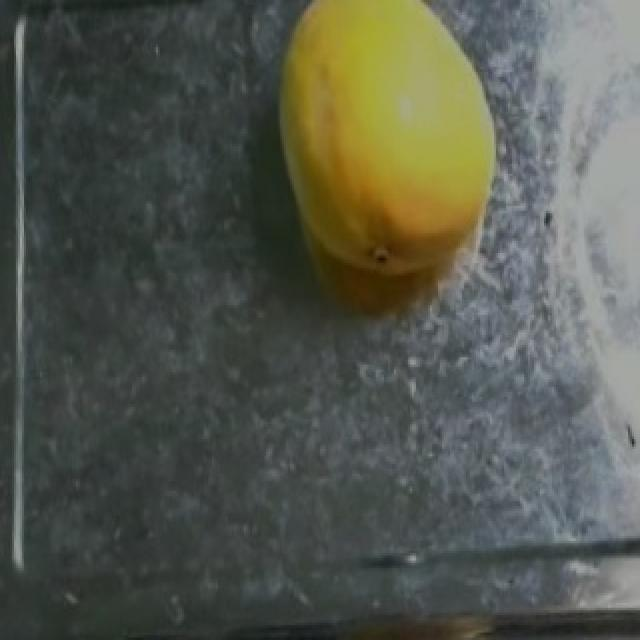fruit: (254, 0, 542, 305)
